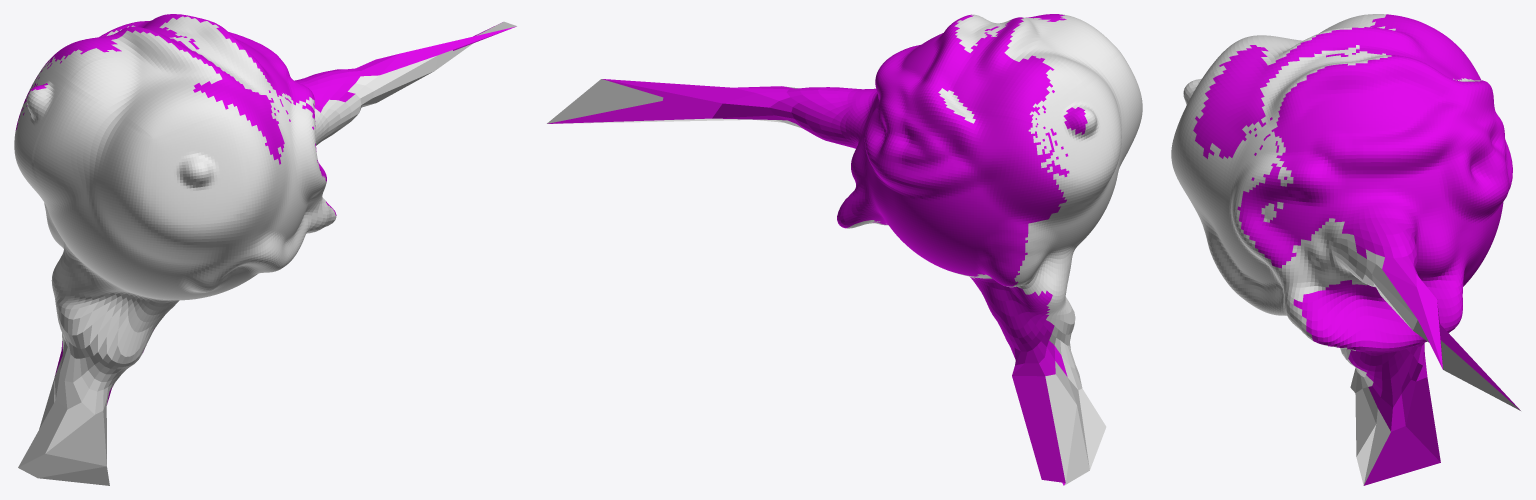
Rendered from gun.glb.
The picture shows the model from 3 angles, left to right: view 1: azimuth 30°, elevation 25°; view 2: azimuth 150°, elevation 25°; view 3: azimuth 270°, elevation 25°; orthographic projection. The views are drawn at different scales.
Visible parts, largest first — view 1: Quad Sphere; view 2: Quad Sphere; view 3: Quad Sphere.
Boxes of the visible parts, <box> form: Quad Sphere: <box>14,14,516,485</box>; Quad Sphere: <box>547,14,1142,485</box>; Quad Sphere: <box>1171,14,1520,485</box>.
Bounding box in the file's own units: 5.85 × 4.59 × 3.03.
